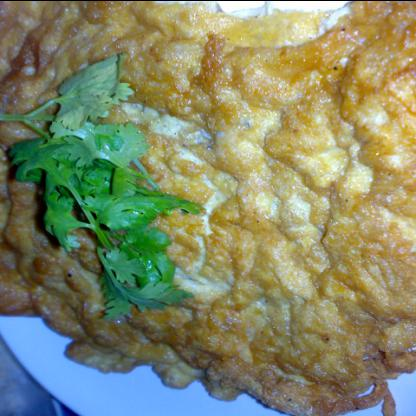Omelette: (3, 0, 415, 413)
